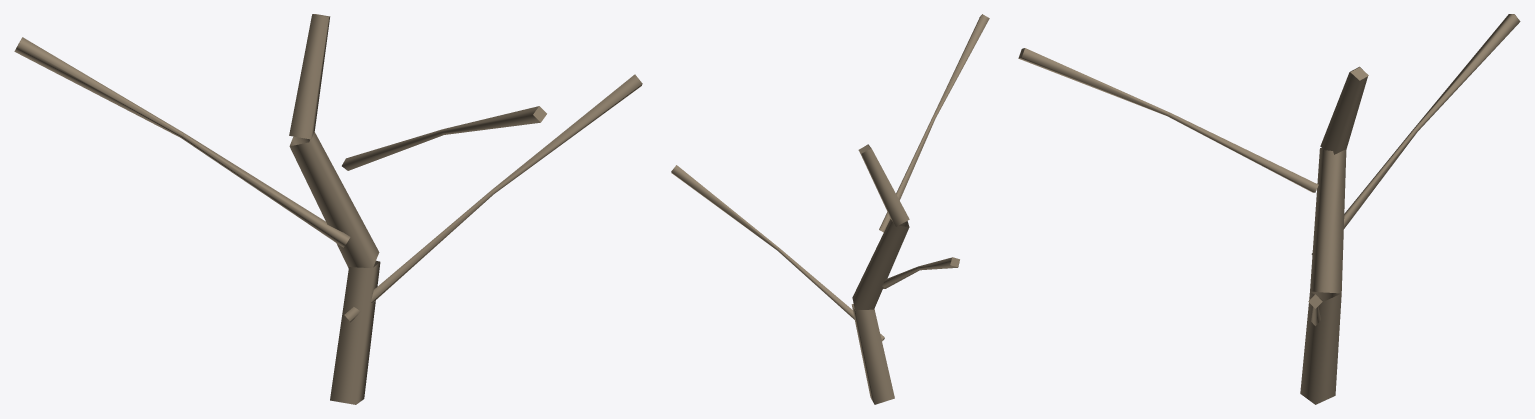
Rendered from debris_lod2.glb.
3 views of the same model, side by side, from view 1: azimuth 30°, elevation 25°; view 2: azimuth 150°, elevation 25°; view 3: azimuth 270°, elevation 25° (orthographic). The views are drawn at different scales.
Parts seen in each view (by area): view 1: Bark; view 2: Bark; view 3: Bark.
Part boxes in pixels (x1=…): Bark: x1=14, y1=14, x2=642, y2=404; Bark: x1=671, y1=14, x2=989, y2=404; Bark: x1=1018, y1=14, x2=1520, y2=404.
Bounding box in the file's own units: 1.76 × 1.35 × 1.7.
